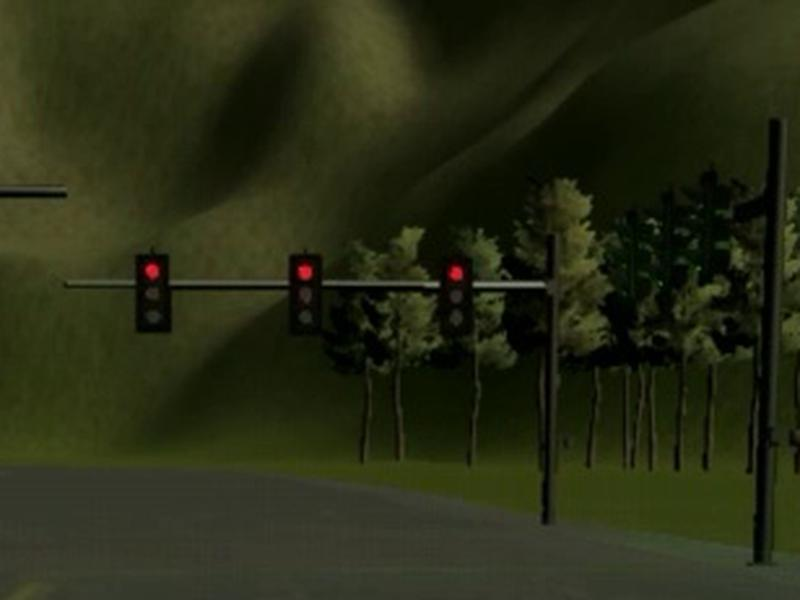Red: (135, 254, 172, 332), (289, 253, 321, 338), (441, 257, 472, 336)
